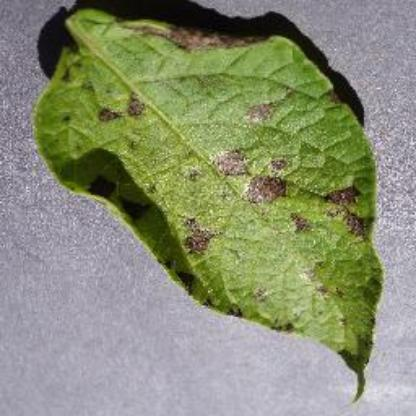Early-Blight: (32, 5, 398, 384)
